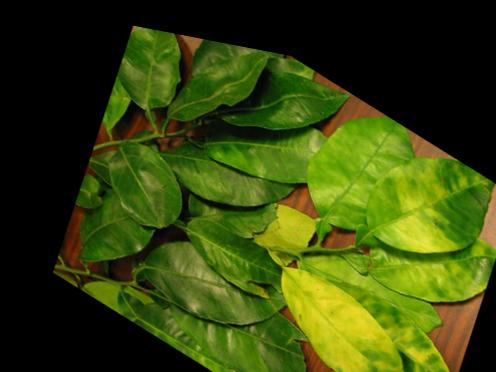Citrus Greening: (267, 59, 439, 252), (328, 93, 496, 284), (237, 236, 425, 372)
